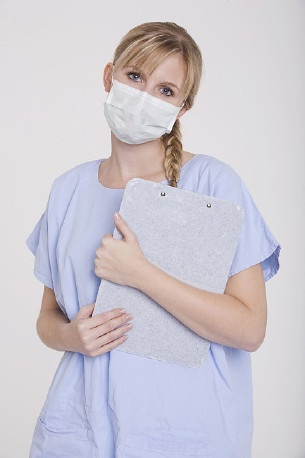Mask: (102, 62, 184, 144)
